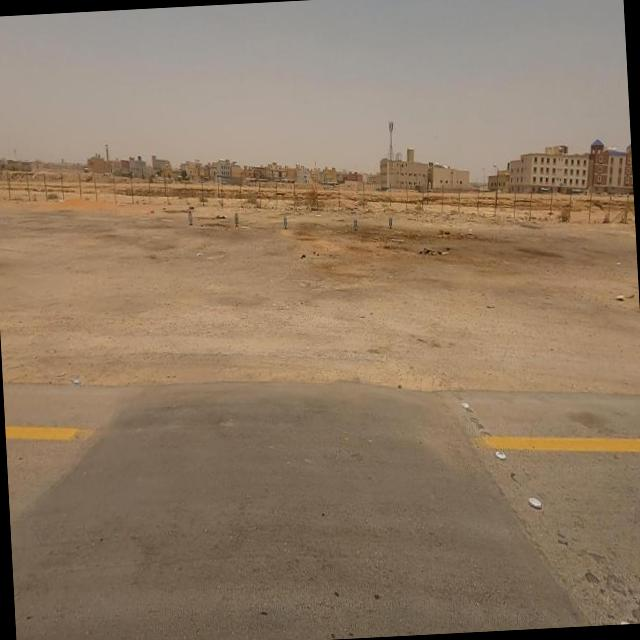debris: (397, 224, 475, 283), (186, 229, 214, 278), (458, 211, 484, 251)
